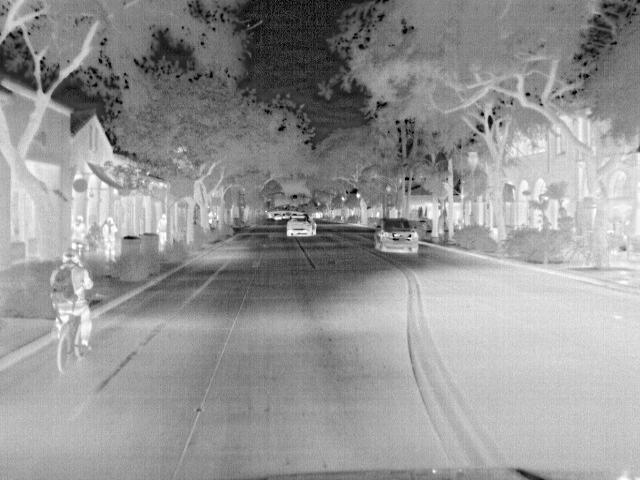car: (372, 218, 421, 255), (284, 212, 318, 236), (273, 212, 285, 222)
person: (51, 250, 93, 352), (100, 216, 116, 262), (154, 211, 170, 256), (71, 213, 86, 249)
